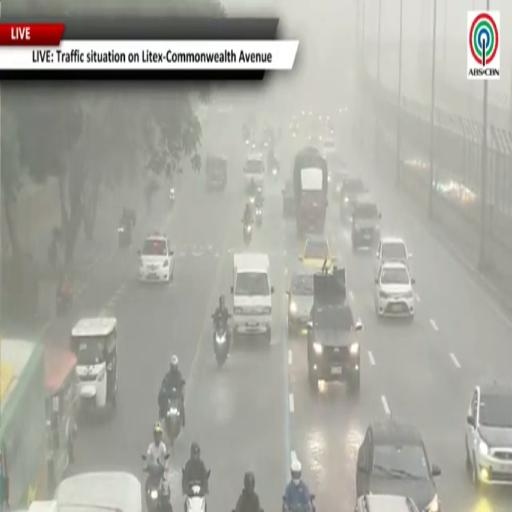bus: (0, 339, 46, 509)
car: (356, 419, 440, 511), (307, 268, 362, 394), (466, 382, 511, 487), (375, 262, 415, 319), (138, 234, 173, 282), (287, 270, 313, 333), (352, 195, 381, 250), (376, 237, 412, 275), (300, 234, 335, 269), (340, 178, 366, 220), (355, 494, 419, 511), (244, 153, 264, 189), (283, 180, 295, 218), (323, 137, 336, 159)
motorcycle: (144, 466, 172, 511), (165, 389, 182, 445), (213, 315, 229, 369), (185, 482, 206, 511), (282, 494, 315, 511), (56, 285, 73, 315), (117, 222, 132, 248), (243, 223, 251, 246), (254, 205, 262, 227), (170, 187, 175, 207), (272, 166, 278, 179), (249, 195, 255, 205)
truck: (231, 253, 273, 343), (293, 147, 327, 235)
